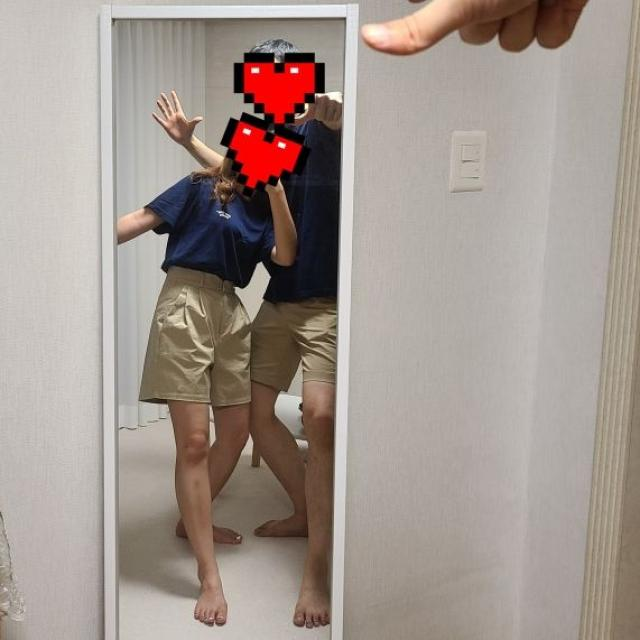shortpants: (139, 262, 252, 411), (250, 291, 336, 392)
shortsleeve: (145, 166, 277, 286), (262, 119, 339, 301)
